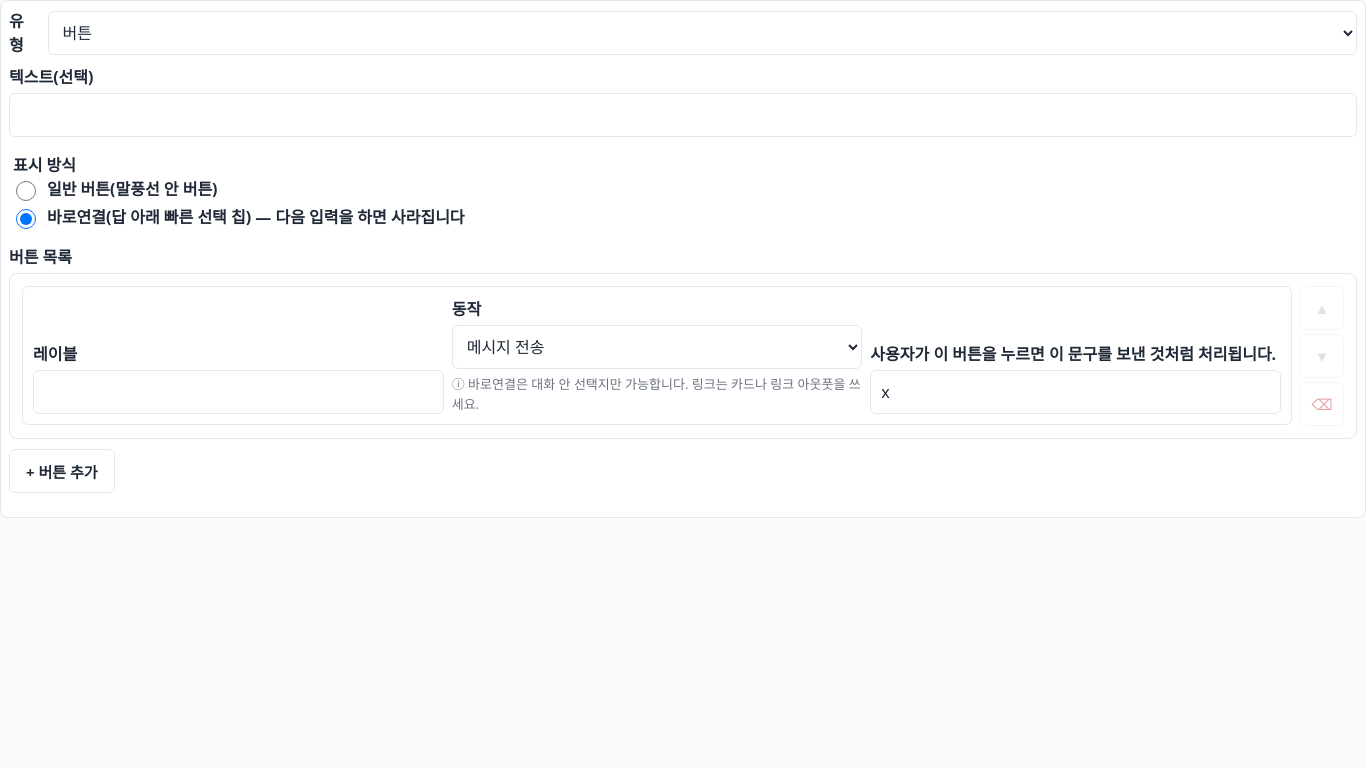
Scenario: DialogOutputEditor — BUTTON 표시 방식(RM-2, 바로연결) › 바로연결 라벨이 20자를 넘으면 경고가 뜬다(저장은 허용)
In the field labelled "레이블": (238, 392) [33,370,444,414], type "이십자를넘는아주아주긴바로연결라벨입니다123"
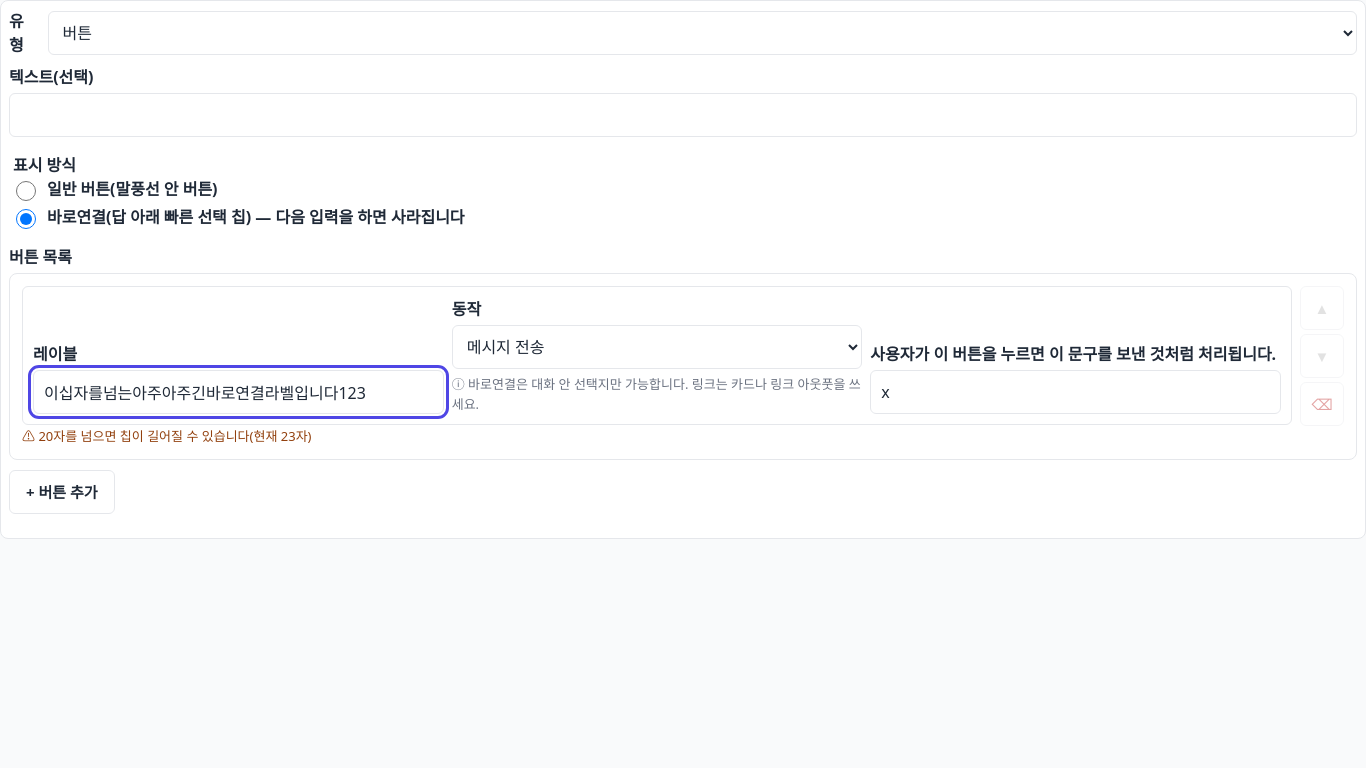
Now the text "⚠ 20자를 넘으면 칩이 길어질 수 있습니다(현재 23자)" is shown, box [22,427,312,445]
